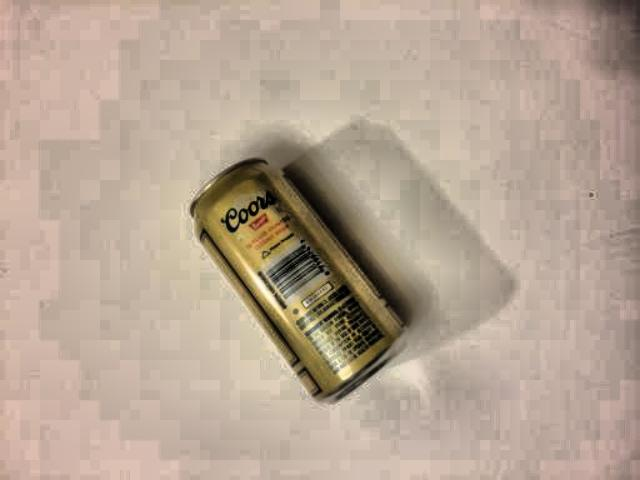Bottles: (169, 128, 429, 439)
